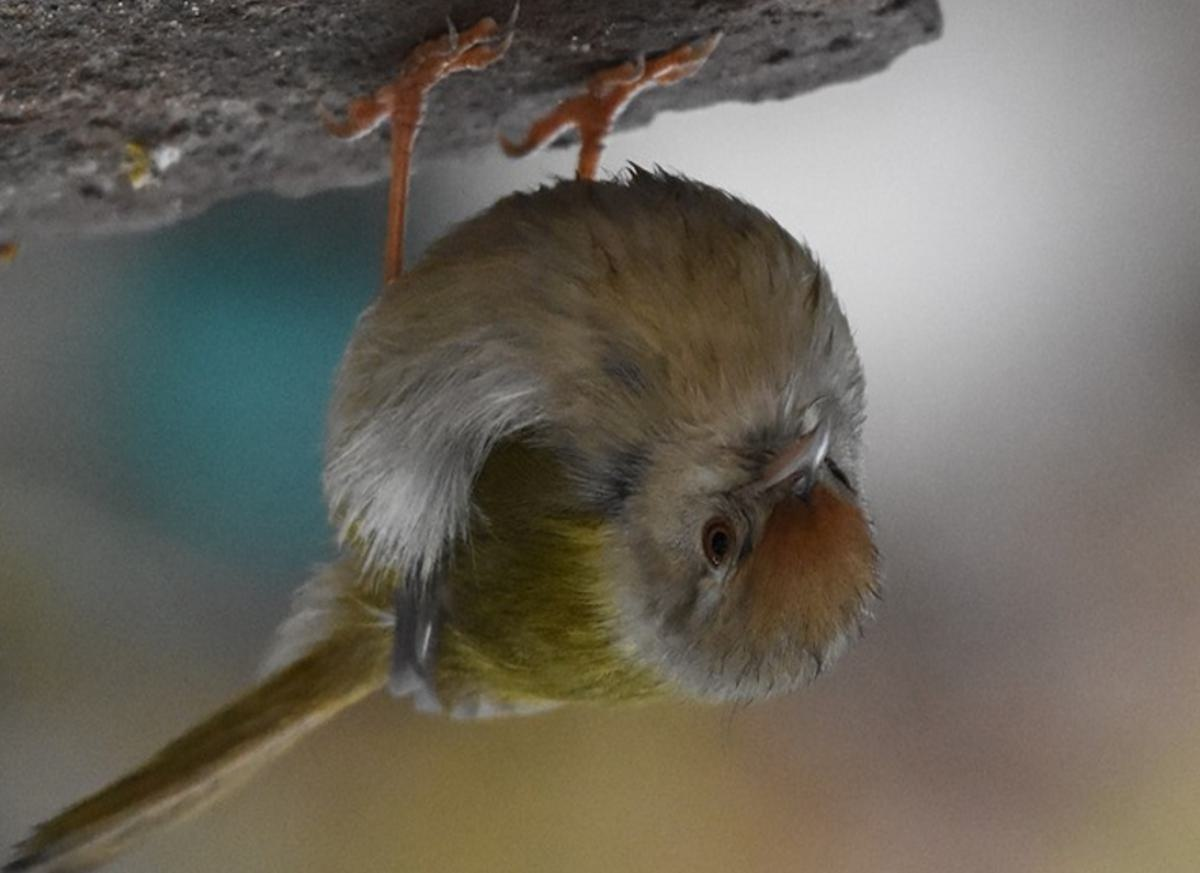tailorbird: (195, 97, 927, 872)
